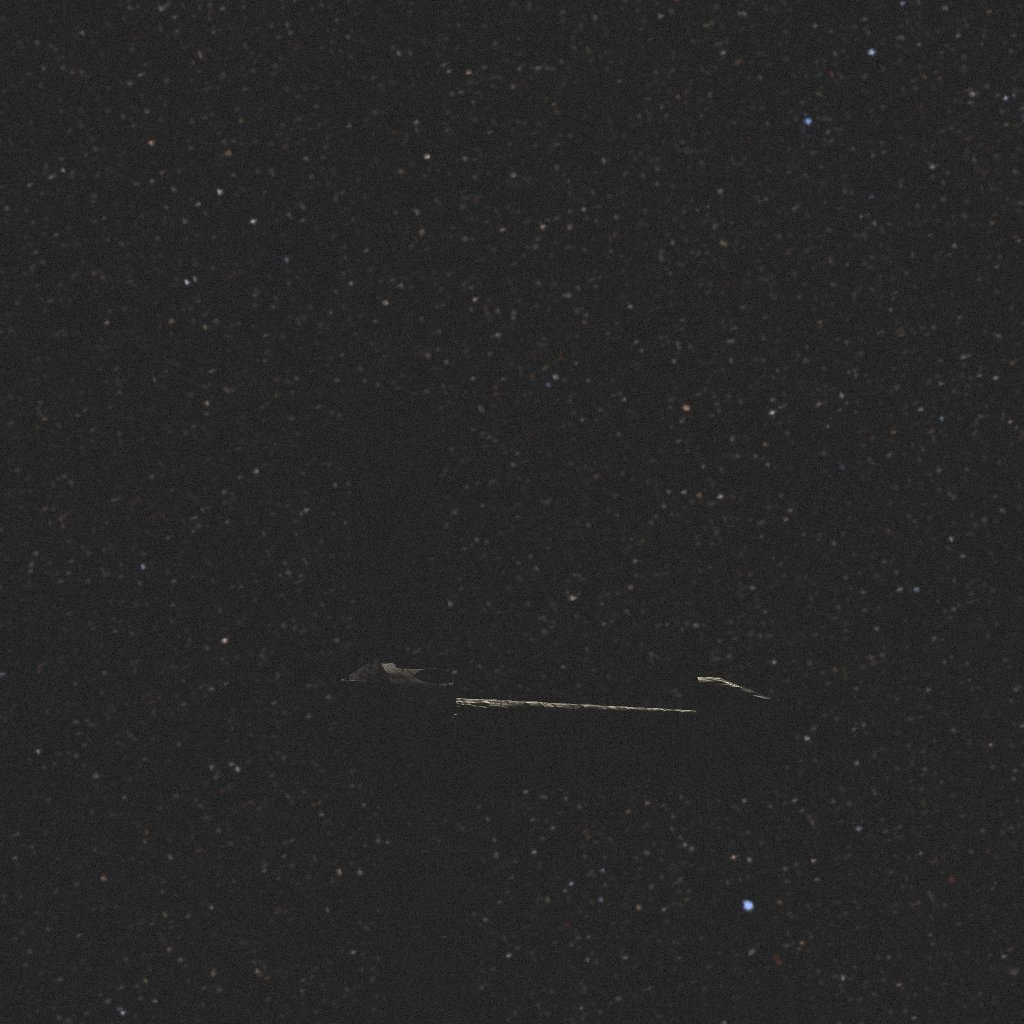xmm_newton: (339, 394, 793, 1024)
